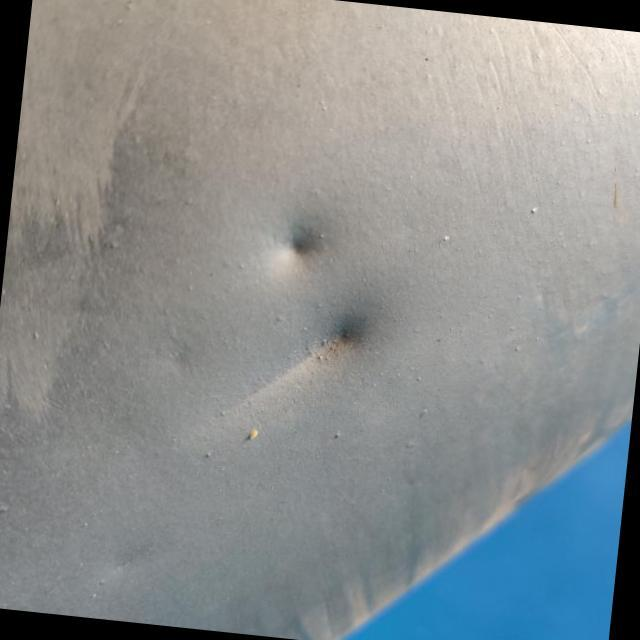Dent: (229, 282, 395, 425), (260, 210, 338, 282)
